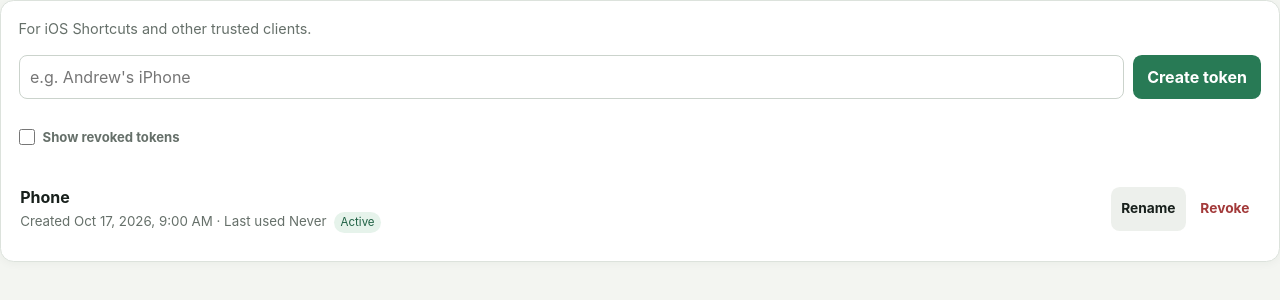
Test: cancels edits without sending an update
Click the button with aria-label "Rename Phone".
click(1148, 209)  # box [1111,187,1186,231]
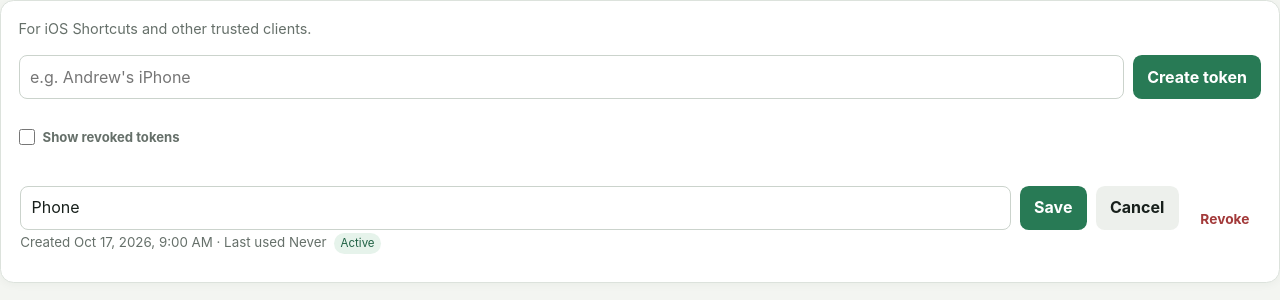
Replace the text in the field named "New token name" with "Changed" at (516, 208), box [20,186,1011,230]
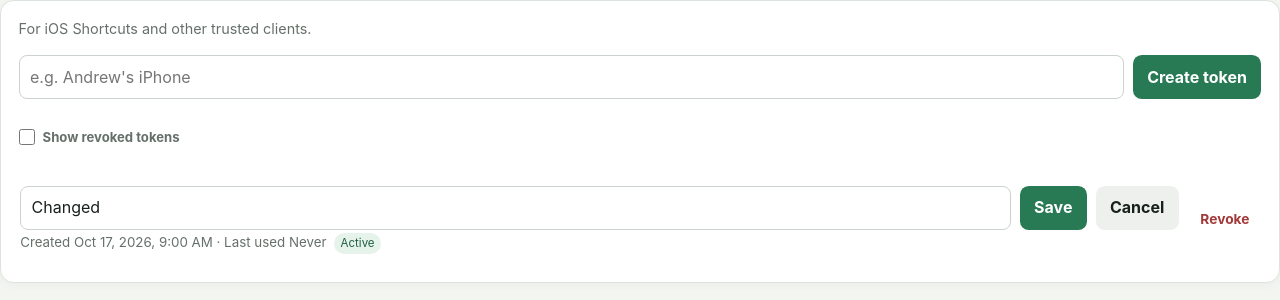
Click the button "Cancel".
click(1137, 208)  # box [1096,186,1179,230]
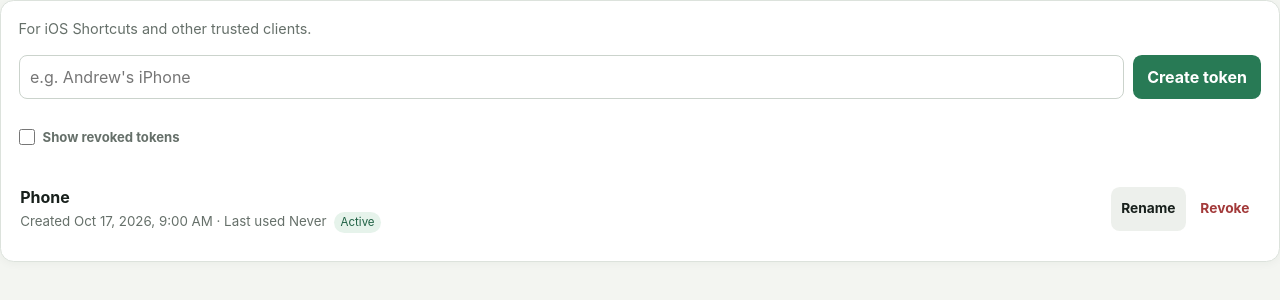
Result: the button with aria-label "Rename Phone" is shown at [1111,187,1186,231]
